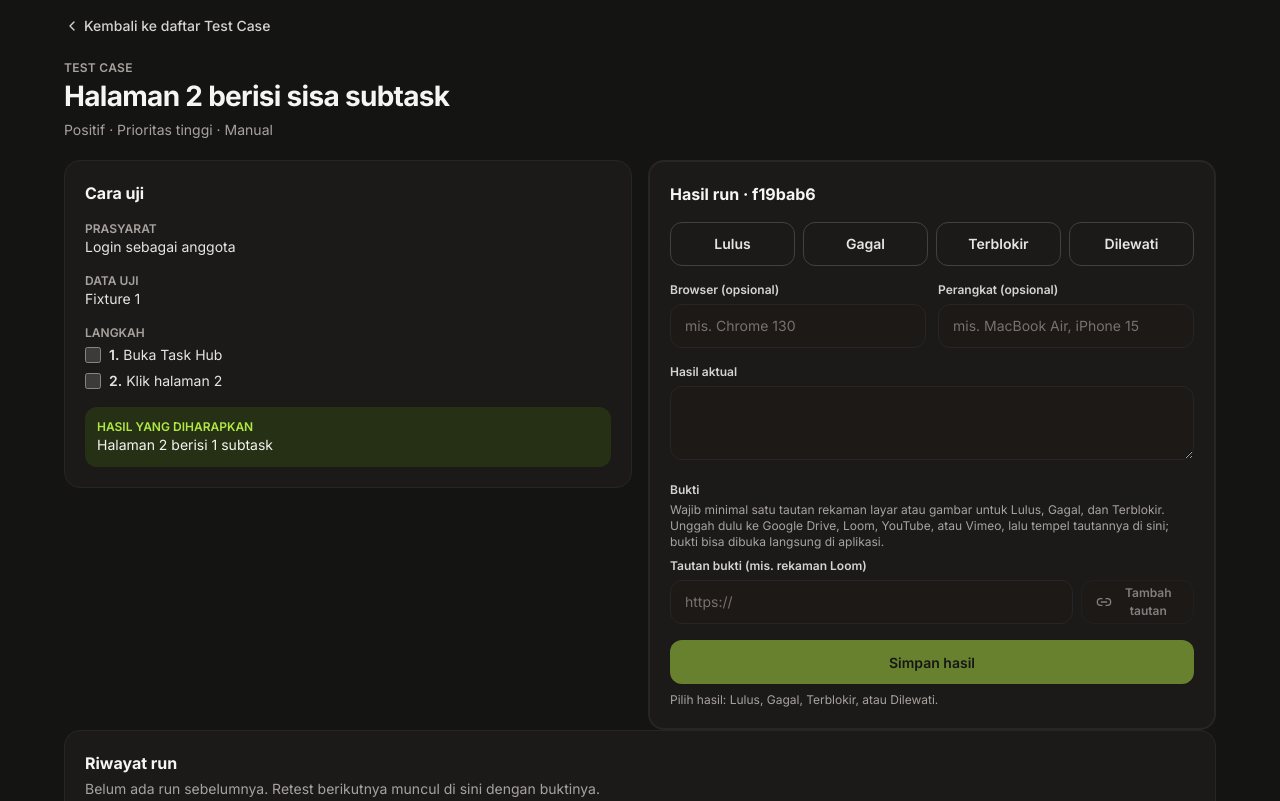
TestCaseRunView › rejects links that cannot be previewed in the app (only link evidence is accepted)
Click the button "Lulus": {"x": 732, "y": 244} [670,222,795,266]
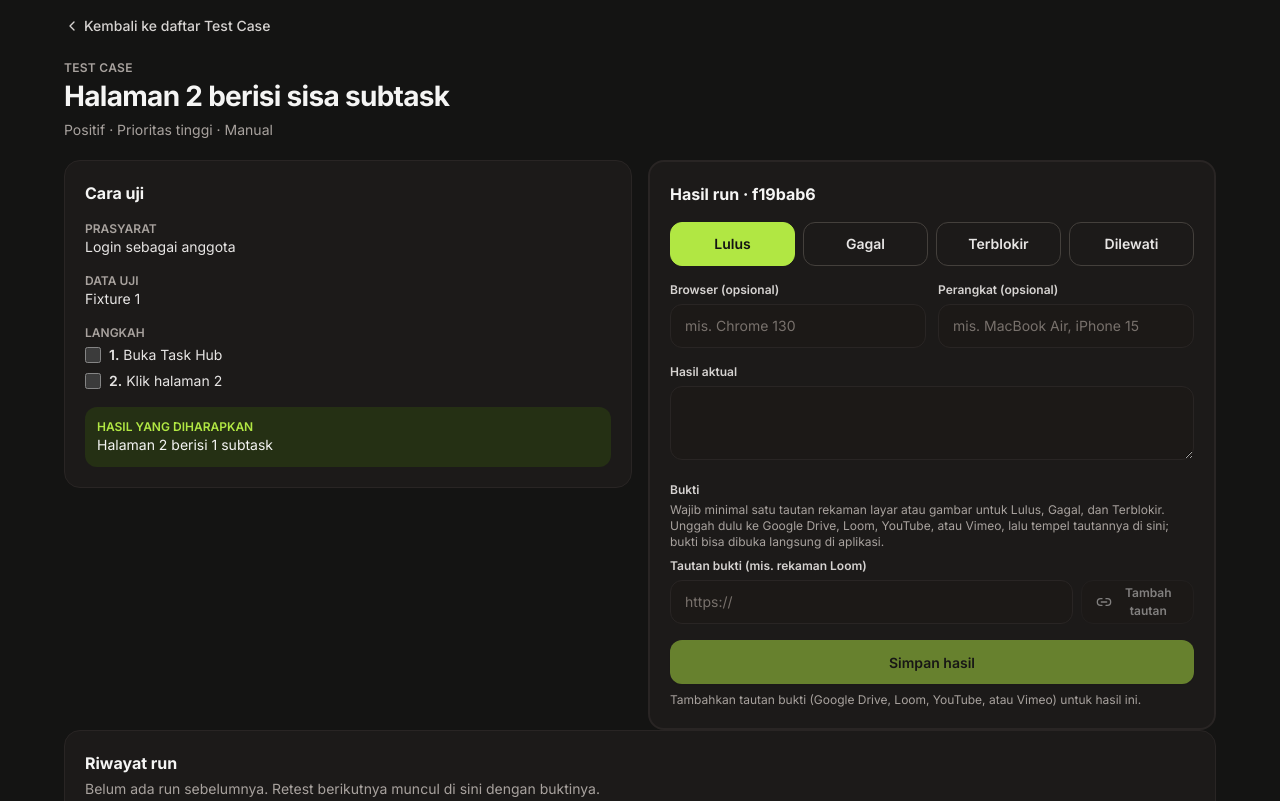
In the field labelled "Tautan bukti (mis. rekaman Loom)": {"x": 871, "y": 602} [670,580,1072,624], type "https://example.com/screenshot.png"
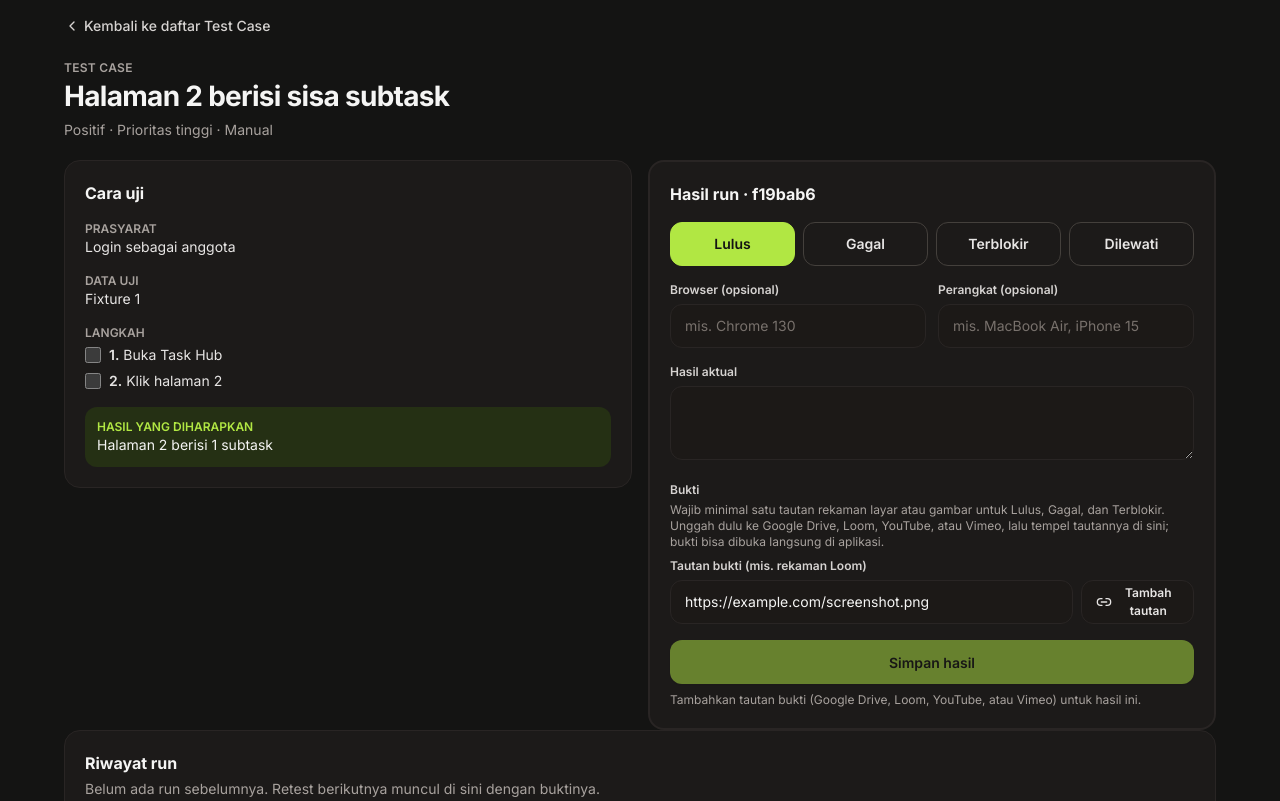
Click the button "Tambah tautan": {"x": 1137, "y": 602} [1080,580,1194,624]
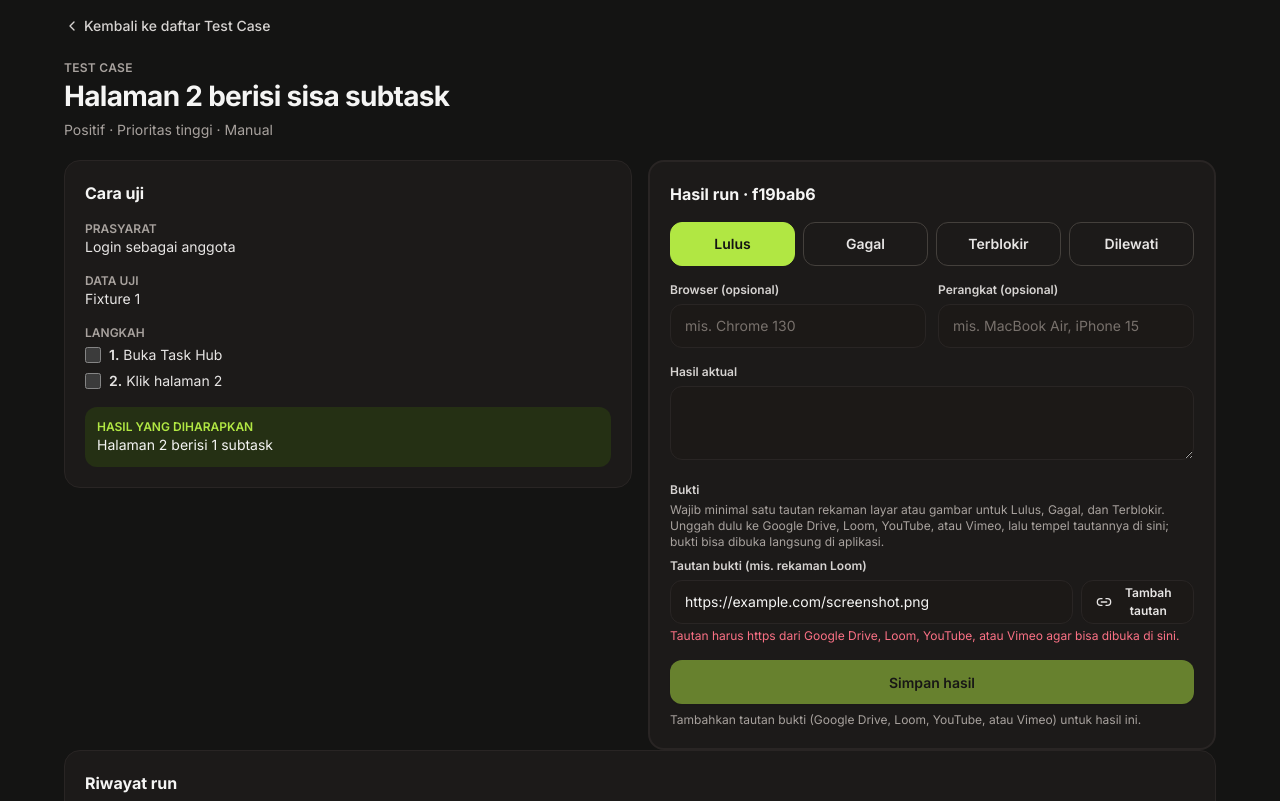
Expected: the button "Simpan hasil" is disabled, [670,660,1194,704]
Now the message shows "Google Drive, Loom, YouTube, atau Vimeo", box [670,628,1180,643]
